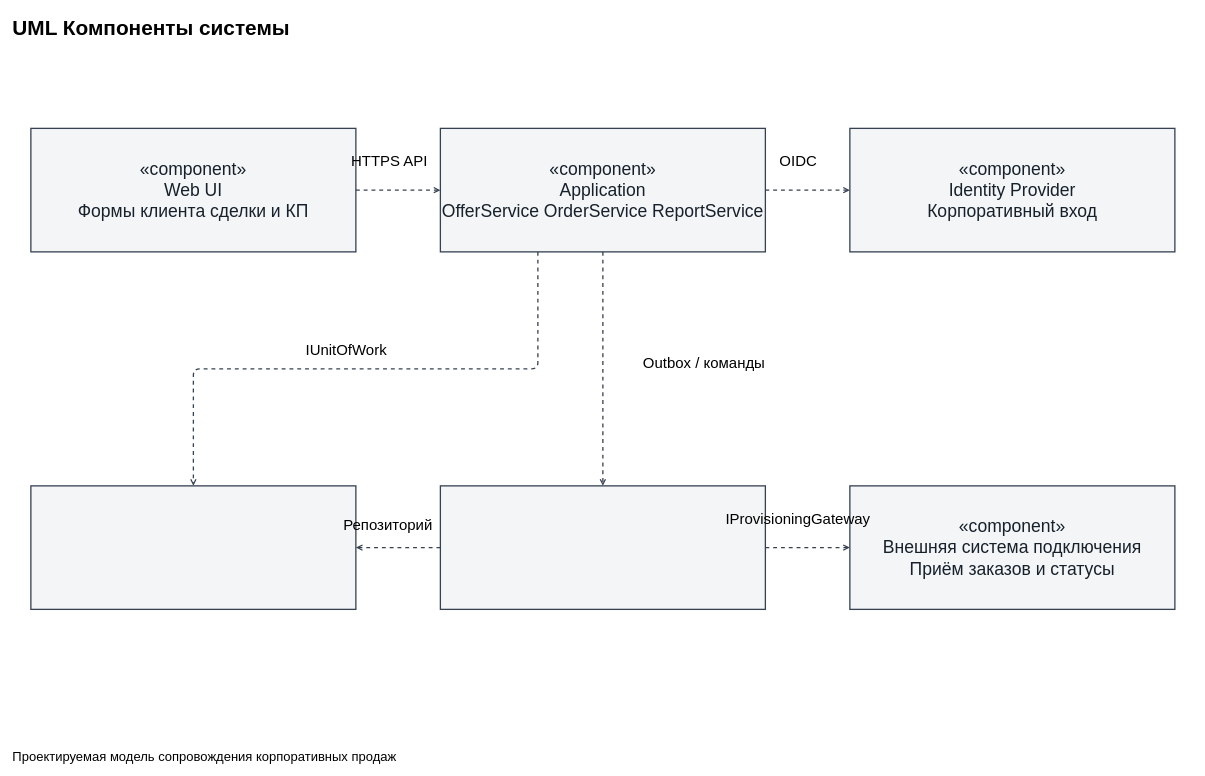
Image size: 1205x776. Some labels were removed from this diagram. The centre of each missing label's shape, as x and y in pixels:
"«component» Integration Worker Outbox и обработка статусов" goes at pixel 602 547.
"«component» Persistence Репозитории и транзакции" goes at pixel 193 547.
